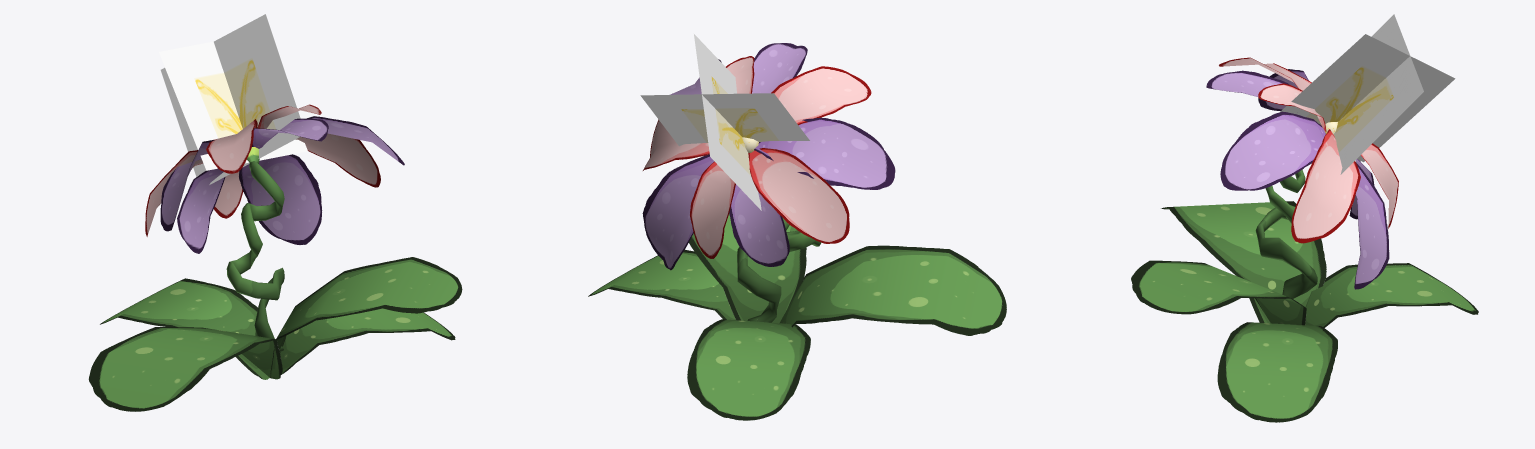
Rendered from flower-01.FBX.
3 renders of one model, left to right at view 1: azimuth 30°, elevation 25°; view 2: azimuth 150°, elevation 25°; view 3: azimuth 270°, elevation 25°, orthographic.
Visible parts, largest first — view 1: Leaf03, Leaf02, Antennaes00, Antennaes01, Leaf01, Petal10, Leaf00, Stem, Petal07, Petal06, Leaf007, Petal04 (+11 smaller); view 2: Leaf03, Leaf01, Petal03, Antennaes01, Petal09, Leaf00, Leaf02, Petal10, Antennaes00, Leaf004, Petal04, Petal07 (+14 smaller); view 3: Leaf00, Leaf03, Antennaes00, Leaf02, Leaf01, Petal08, Antennaes01, Petal06, Stem, Petal10, Leaf004, Leaf005 (+9 smaller).
Part boxes in pixels (bbox=[...]): Leaf03: bbox=[88, 327, 282, 411]; Leaf02: bbox=[270, 257, 462, 377]; Antennaes00: bbox=[160, 14, 300, 184]; Antennaes01: bbox=[159, 41, 307, 170]; Leaf01: bbox=[100, 278, 269, 379]; Petal10: bbox=[239, 154, 322, 244]; Leaf00: bbox=[273, 308, 455, 377]; Stem: bbox=[226, 147, 284, 351]; Petal07: bbox=[177, 168, 225, 253]; Petal06: bbox=[295, 133, 380, 187]; Leaf007: bbox=[273, 257, 461, 356]; Petal04: bbox=[206, 119, 257, 173]; Leaf03: bbox=[779, 245, 1006, 335]; Leaf01: bbox=[687, 319, 810, 420]; Petal03: bbox=[748, 148, 849, 243]; Antennaes01: bbox=[640, 93, 809, 146]; Petal09: bbox=[754, 117, 895, 189]; Leaf00: bbox=[588, 249, 735, 319]; Leaf02: bbox=[689, 214, 806, 323]; Petal10: bbox=[642, 154, 714, 270]; Antennaes00: bbox=[694, 34, 761, 210]; Leaf004: bbox=[782, 246, 1006, 328]; Petal04: bbox=[771, 66, 871, 125]; Petal07: bbox=[729, 184, 789, 266]; Leaf00: bbox=[1217, 322, 1337, 422]; Leaf03: bbox=[1161, 201, 1326, 323]; Antennaes00: bbox=[1279, 34, 1454, 162]; Leaf02: bbox=[1131, 260, 1306, 325]; Leaf01: bbox=[1305, 263, 1478, 327]; Petal08: bbox=[1220, 111, 1325, 190]; Antennaes01: bbox=[1333, 14, 1423, 174]; Petal06: bbox=[1291, 129, 1360, 243]; Stem: bbox=[1255, 122, 1337, 298]; Petal10: bbox=[1354, 162, 1389, 289]; Leaf004: bbox=[1163, 201, 1323, 322]; Leaf005: bbox=[1305, 263, 1478, 327].
Size of the model in its own units: 1.05 by 0.7838 by 0.9274.
